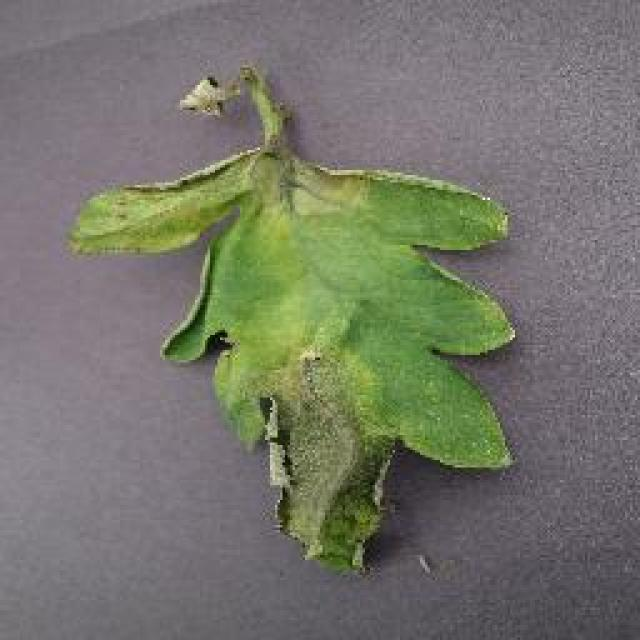Tomato___Late_blight: (62, 62, 516, 582)
